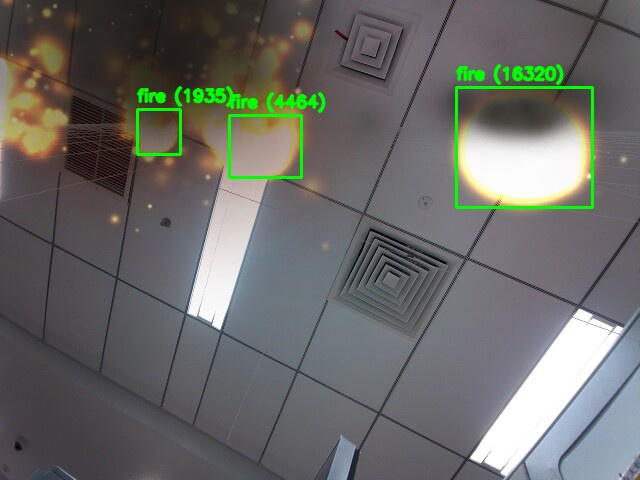fire: (456, 87, 592, 207), (229, 115, 301, 177), (137, 109, 180, 154)
